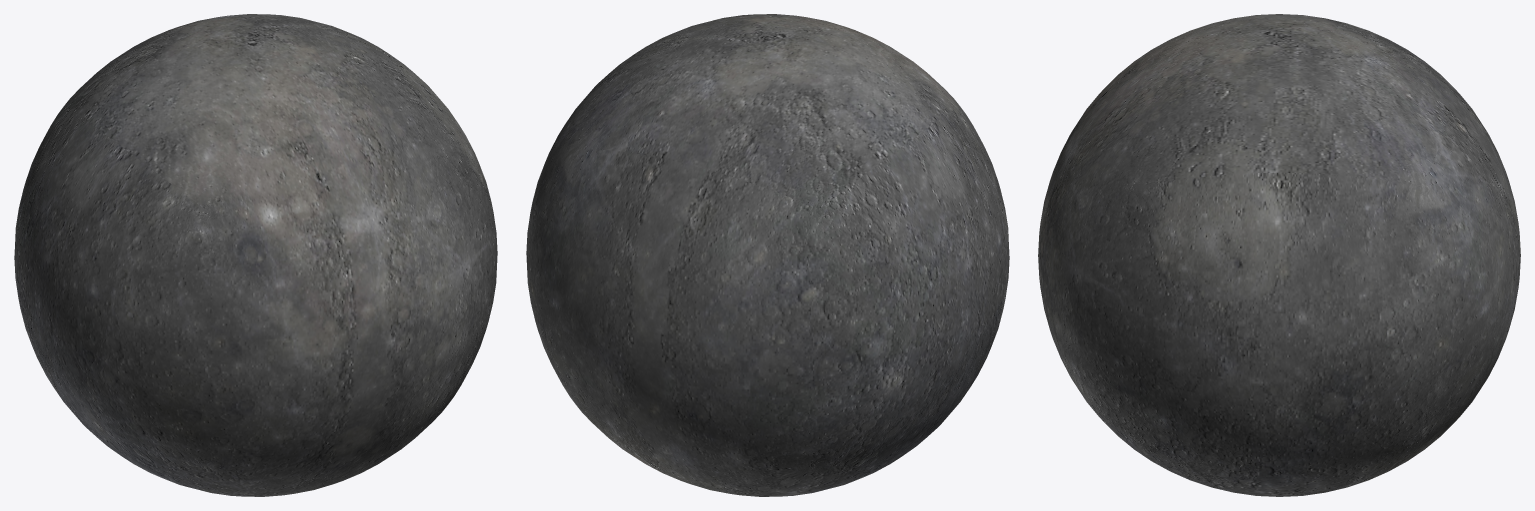
The model's file is mercury.gltf.
3 renders of one model, left to right at view 1: azimuth 30°, elevation 25°; view 2: azimuth 150°, elevation 25°; view 3: azimuth 270°, elevation 25°, orthographic.
Parts seen in each view (by area): view 1: Cube008_0; view 2: Cube008_0; view 3: Cube008_0.
Boxes of the visible parts, box(x1,y1,x2,y2) form: Cube008_0: box(14, 14, 497, 496); Cube008_0: box(526, 14, 1009, 496); Cube008_0: box(1038, 14, 1520, 496).
Bounding box in the file's own units: 5 × 5 × 5.
1 material, 1 textured.
